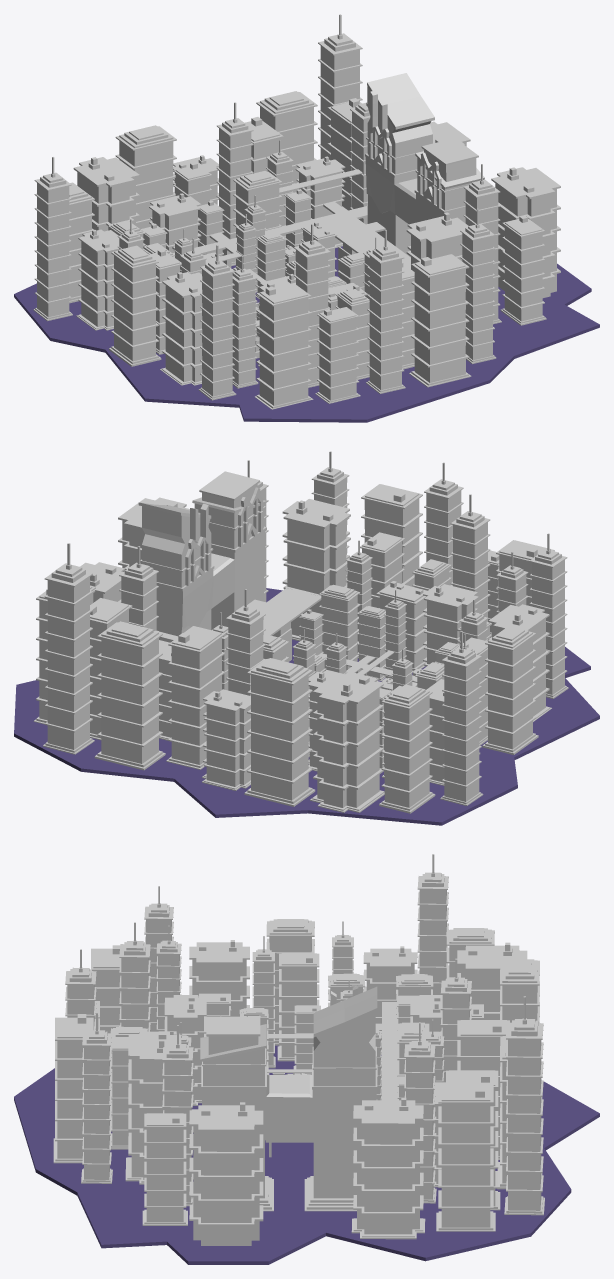
The model's file is Blockout Somnara - 5.fbx.
3 renders of one model, top to bottom at view 1: azimuth 30°, elevation 25°; view 2: azimuth 150°, elevation 25°; view 3: azimuth 270°, elevation 25°, orthographic. The views are drawn at different scales.
Visible parts, largest first — view 1: Zem, Cube.249, Building_c.016, Building_c.015, Building_e.010, Building_a.016, Building_a.010, building_b.010, Building_a.017, building_b.009, Building_c.014, Building_a.015 (+33 smaller); view 2: Cube.249, Zem, building_b.007, Building_e.009, Building_e.012, Building_a.018, Building_c.009, building_b.003, Building_e.011, Building_a.010, Building_e.010, building_b.008 (+36 smaller); view 3: Zem, Cube.249, building_b.010, building_b.011, Building_c.017, Building_a.018, Building_c.014, Building_a.015, Building_c.016, building_b.003, building_b.009, Building_a.010 (+30 smaller).
Boxes of the visible parts, x1,y1,x2,y2 form: Zem: [14, 246, 599, 422]; Cube.249: [365, 73, 484, 257]; Building_c.016: [409, 254, 471, 387]; Building_c.015: [254, 284, 313, 409]; Building_e.010: [109, 245, 161, 366]; Building_a.016: [366, 230, 405, 393]; Building_a.010: [33, 157, 72, 320]; building_b.010: [491, 167, 560, 297]; Building_a.017: [198, 245, 236, 400]; building_b.009: [160, 272, 202, 385]; Building_c.014: [500, 215, 546, 325]; Building_a.015: [460, 208, 496, 363]; Cube.249: [138, 471, 266, 642]; Zem: [14, 588, 599, 825]; building_b.007: [310, 672, 384, 812]; Building_e.009: [244, 658, 315, 806]; Building_e.012: [94, 621, 165, 770]; Building_a.018: [43, 543, 94, 754]; Building_c.009: [166, 626, 225, 769]; building_b.003: [282, 499, 350, 641]; Building_e.011: [379, 684, 435, 813]; Building_a.010: [440, 631, 483, 805]; Building_e.010: [482, 626, 538, 754]; building_b.008: [202, 689, 250, 790]; Zem: [14, 1045, 599, 1264]; Cube.249: [200, 985, 377, 1211]; building_b.010: [189, 1102, 263, 1245]; building_b.011: [351, 1097, 425, 1239]; Building_c.017: [436, 1084, 495, 1231]; Building_a.018: [504, 996, 544, 1215]; Building_c.014: [142, 1113, 187, 1225]; Building_a.015: [81, 1012, 112, 1183]; Building_c.016: [53, 1014, 93, 1163]; building_b.003: [125, 1031, 181, 1184]; building_b.009: [189, 940, 249, 1016]; Building_a.010: [417, 854, 448, 994].
Size of the model in its own units: 29214 by 11693 by 29111.
